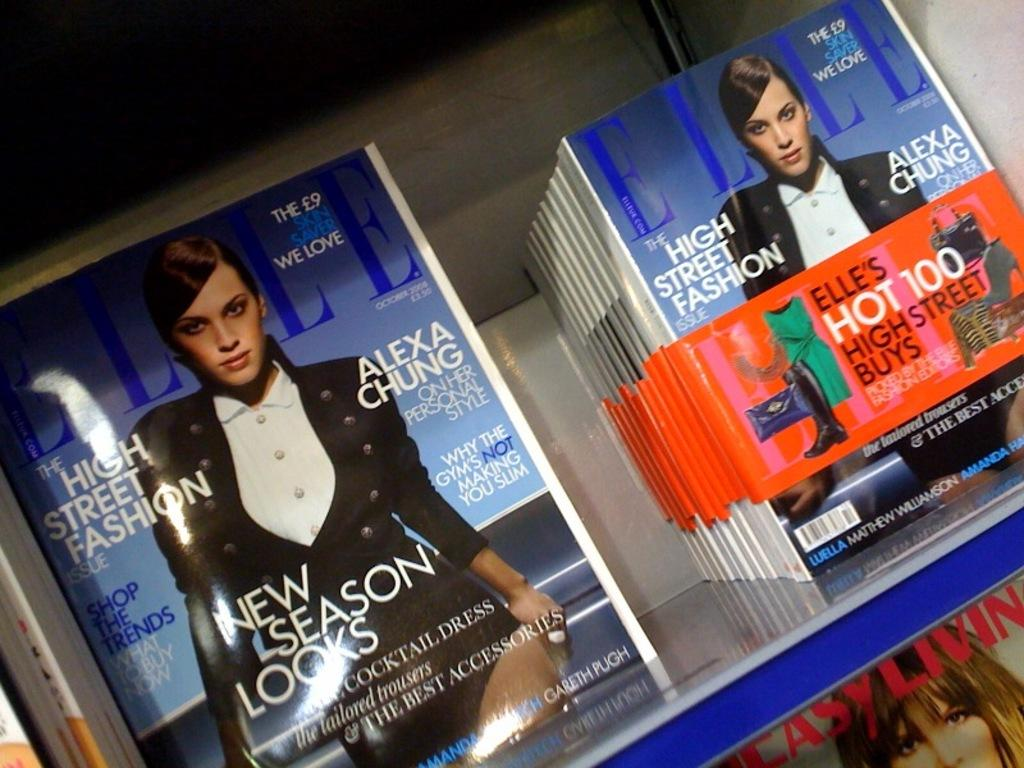Book: (33, 92, 721, 768), (521, 0, 1023, 588), (700, 563, 1023, 767)
